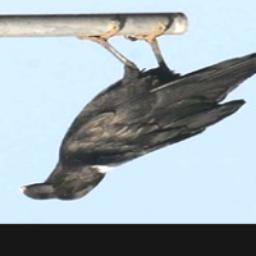Crow: (20, 16, 256, 204)
